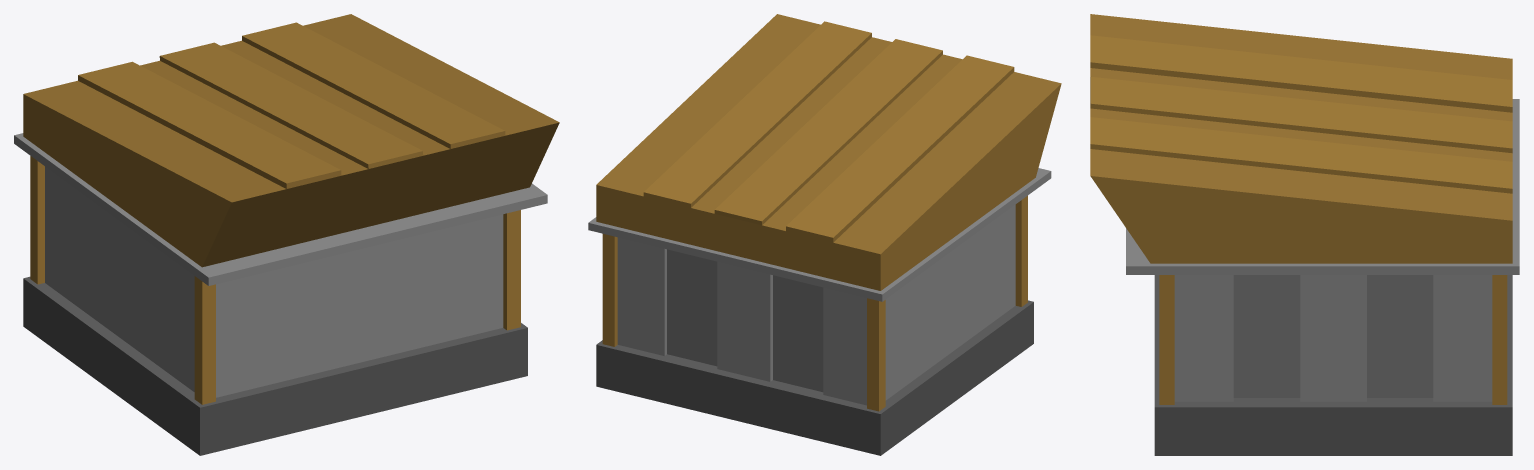
Rendered from Domik_1.fbx.
3 renders of one model, left to right at view 1: azimuth 30°, elevation 25°; view 2: azimuth 150°, elevation 25°; view 3: azimuth 270°, elevation 25°, orthographic. The views are drawn at different scales.
Visible parts, largest first — view 1: Здание_002; view 2: Здание_002; view 3: Здание_002.
Part boxes in pixels (x1,y1,x2,y2): Здание_002: (14,14,559,455); Здание_002: (588,14,1061,455); Здание_002: (1090,14,1519,455).
Bounding box in the file's own units: 3032 × 2413 × 3286.
